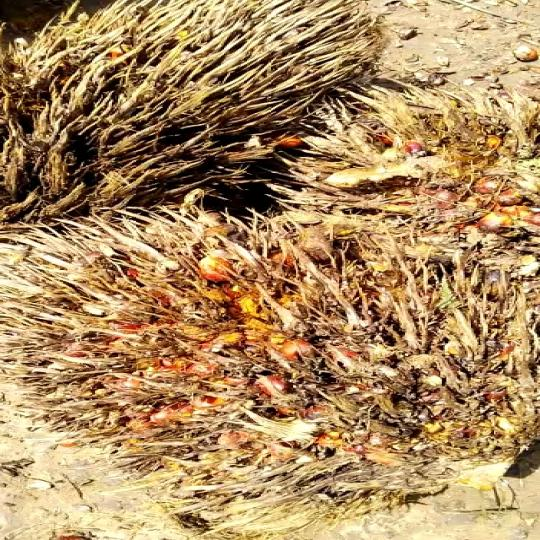terlalu masak: (0, 208, 540, 494), (0, 1, 379, 216)
